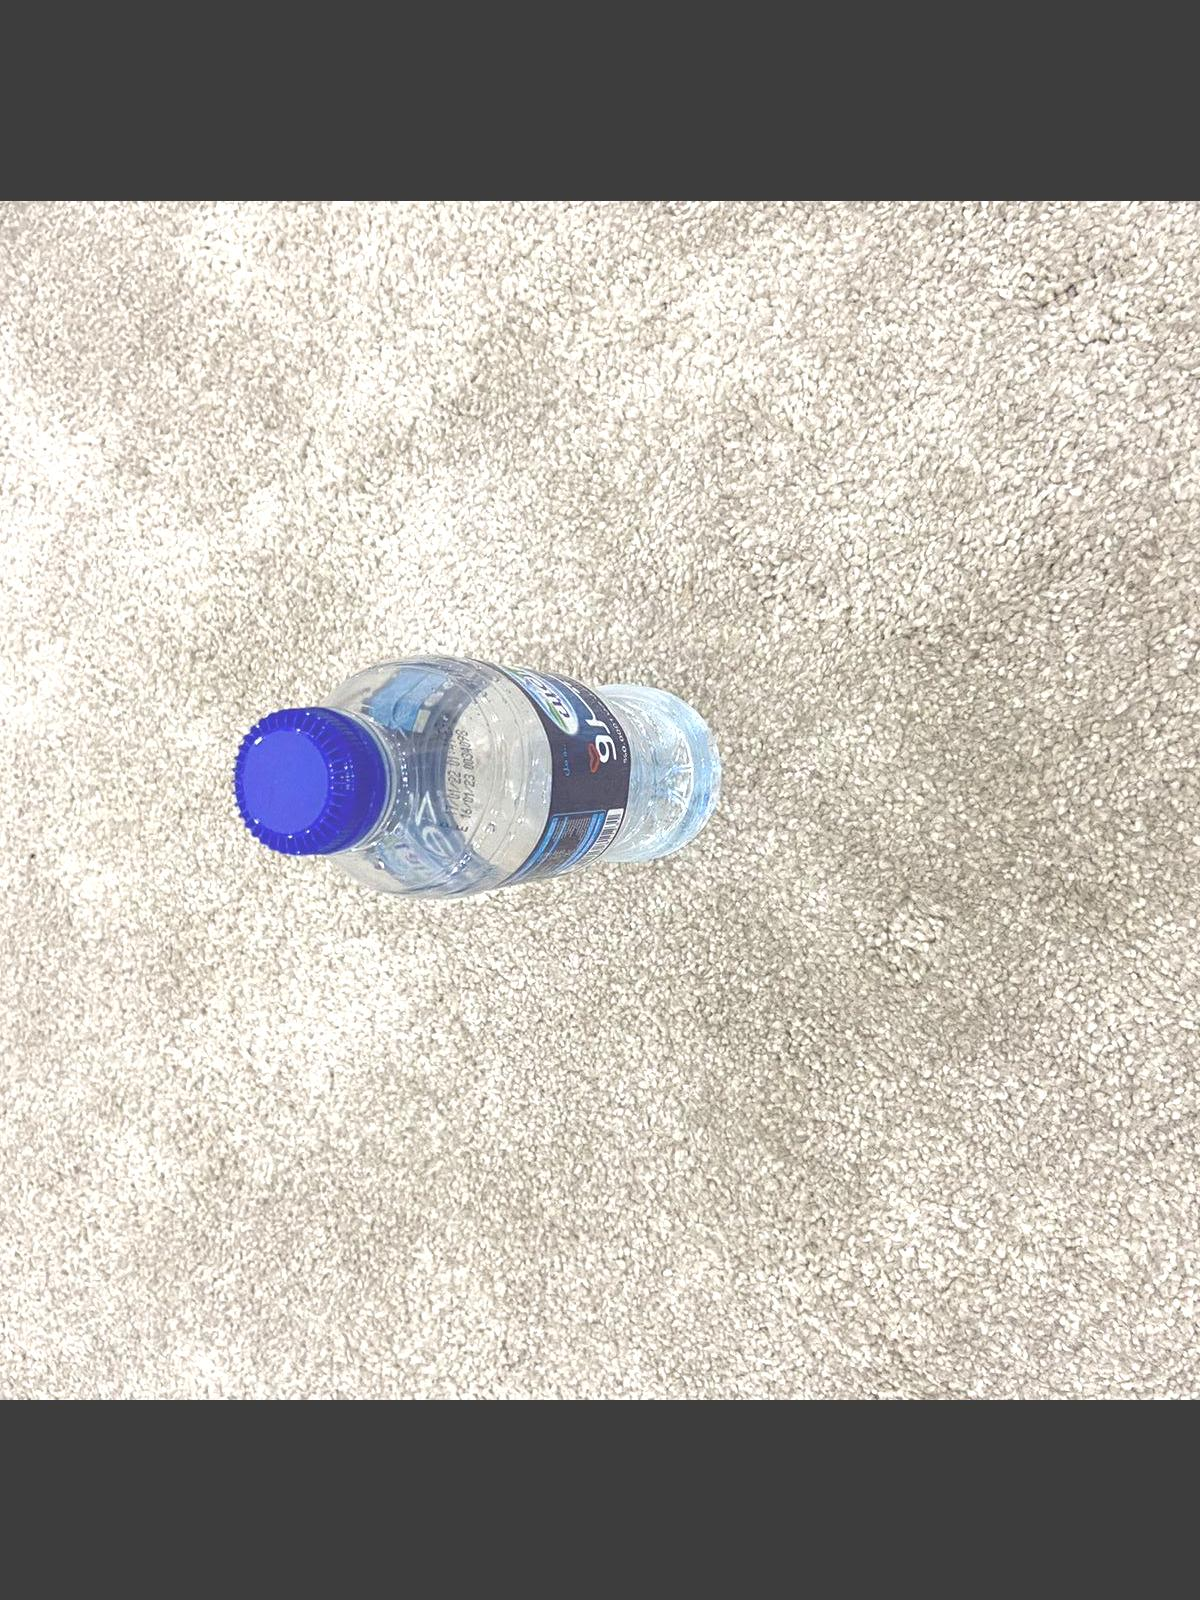bottle: (228, 646, 718, 907)
